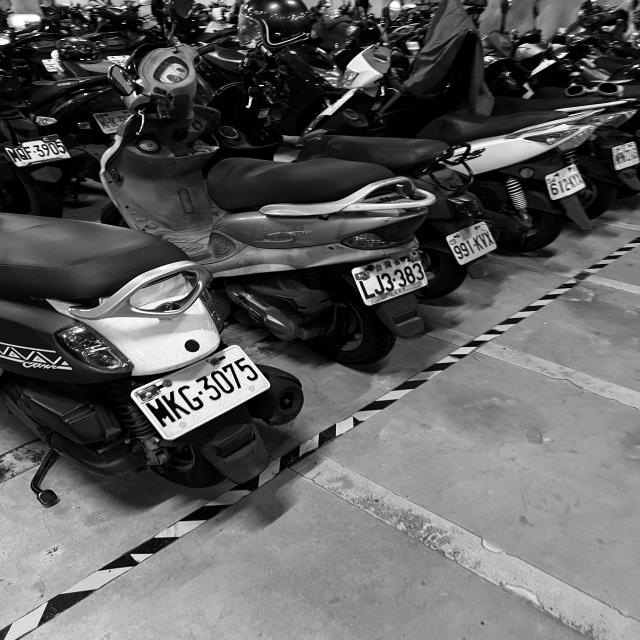-: (197, 389, 204, 396), (392, 277, 397, 282), (32, 150, 37, 154)
0: (208, 368, 237, 397), (47, 141, 61, 155)
1: (464, 238, 476, 255)
3: (193, 373, 226, 403), (379, 272, 397, 293), (392, 268, 409, 289), (411, 261, 427, 283), (32, 145, 46, 157)
5: (232, 356, 261, 383), (53, 140, 68, 154)
7: (219, 362, 247, 389)
8: (403, 265, 418, 285)
9: (452, 244, 465, 261), (459, 242, 471, 258), (40, 143, 52, 157)
F: (22, 145, 35, 160)
G: (175, 383, 208, 413)
J: (370, 274, 387, 296)
K: (159, 389, 193, 422), (471, 235, 485, 252)
L: (358, 279, 377, 301)
M: (144, 396, 178, 428), (7, 148, 22, 163)
Q: (15, 147, 30, 161)
V: (483, 230, 495, 246), (477, 233, 489, 248)
plate: (137, 345, 271, 438), (353, 255, 430, 306), (447, 222, 498, 264), (5, 136, 72, 167), (544, 165, 587, 200)
